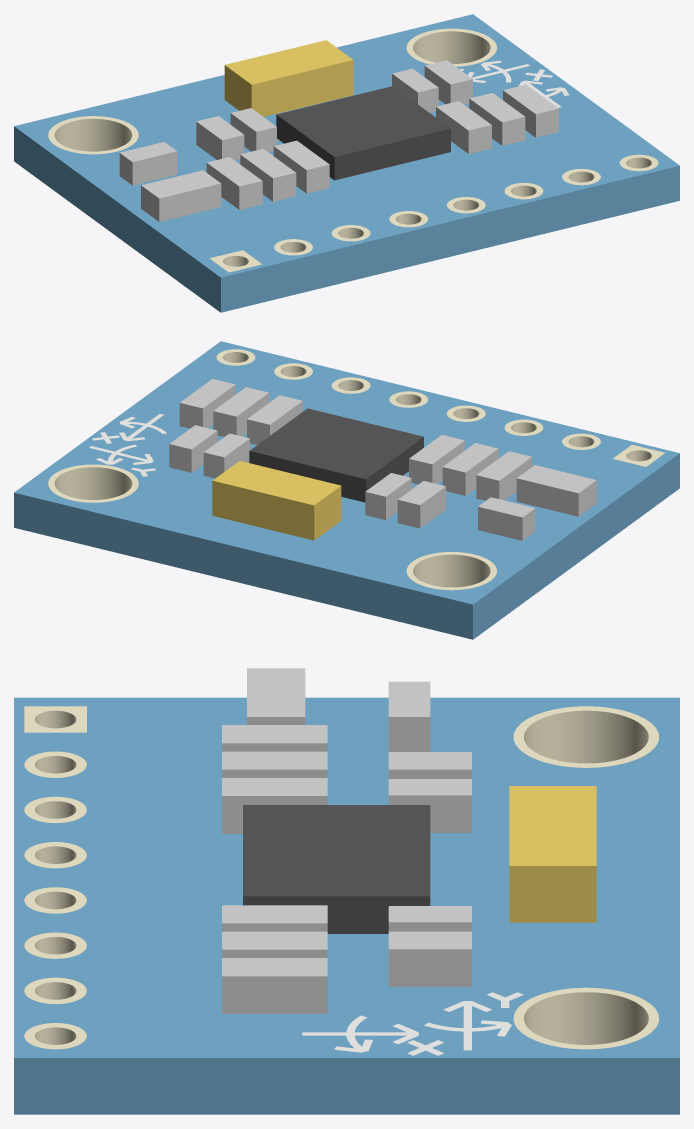
Rendered from MPU_6050.glb.
3 views of the same model, one above another, from view 1: azimuth 30°, elevation 25°; view 2: azimuth 150°, elevation 25°; view 3: azimuth 270°, elevation 25° (orthographic). The views are drawn at different scales.
Parts seen in each view (by area): view 1: Node5, Node3, Node1, Node4, Node2, Node6; view 2: Node5, Node3, Node4, Node1, Node2, Node6; view 3: Node5, Node3, Node4, Node1, Node2, Node6.
Part boxes in pixels (x1,y1,x2,y2): Node5: (14,14,679,312); Node3: (119,60,558,221); Node1: (276,86,450,180); Node4: (48,28,658,272); Node2: (224,40,353,116); Node6: (460,60,569,107); Node5: (14,341,679,639); Node3: (169,379,596,540); Node4: (48,349,665,590); Node1: (249,408,423,502); Node2: (212,461,341,540); Node6: (89,414,166,476); Node5: (14,697,679,1114); Node3: (222,668,471,1013); Node4: (24,706,658,1049); Node1: (243,805,430,933); Node2: (509,786,596,922); Node6: (302,992,523,1055).
Bounding box in the file's own units: 20.5 × 3 × 16.
